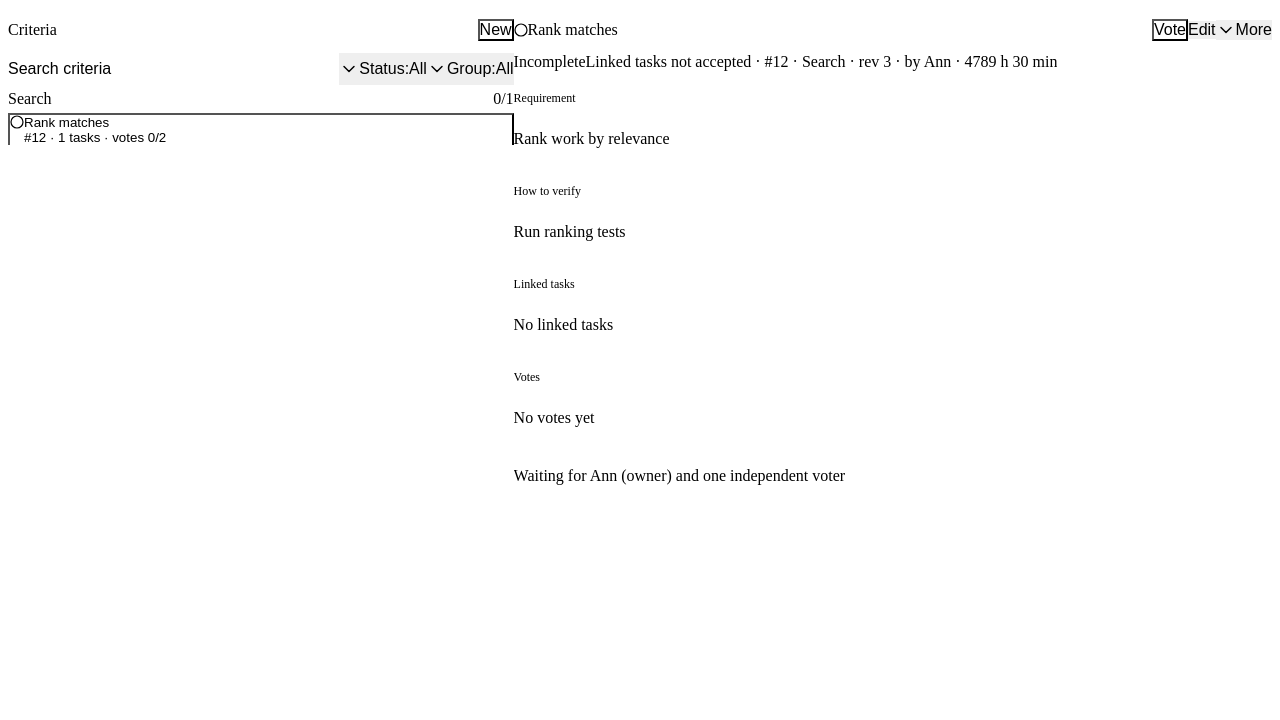
keeps forms out of the detail until requested and hides empty discussions
Expected: the heading "Rank matches" is shown, [528,21,618,38]
Expected: the heading "Your vote" is not shown
Click the button "Vote" at (1170, 30), box [1152,19,1188,41]
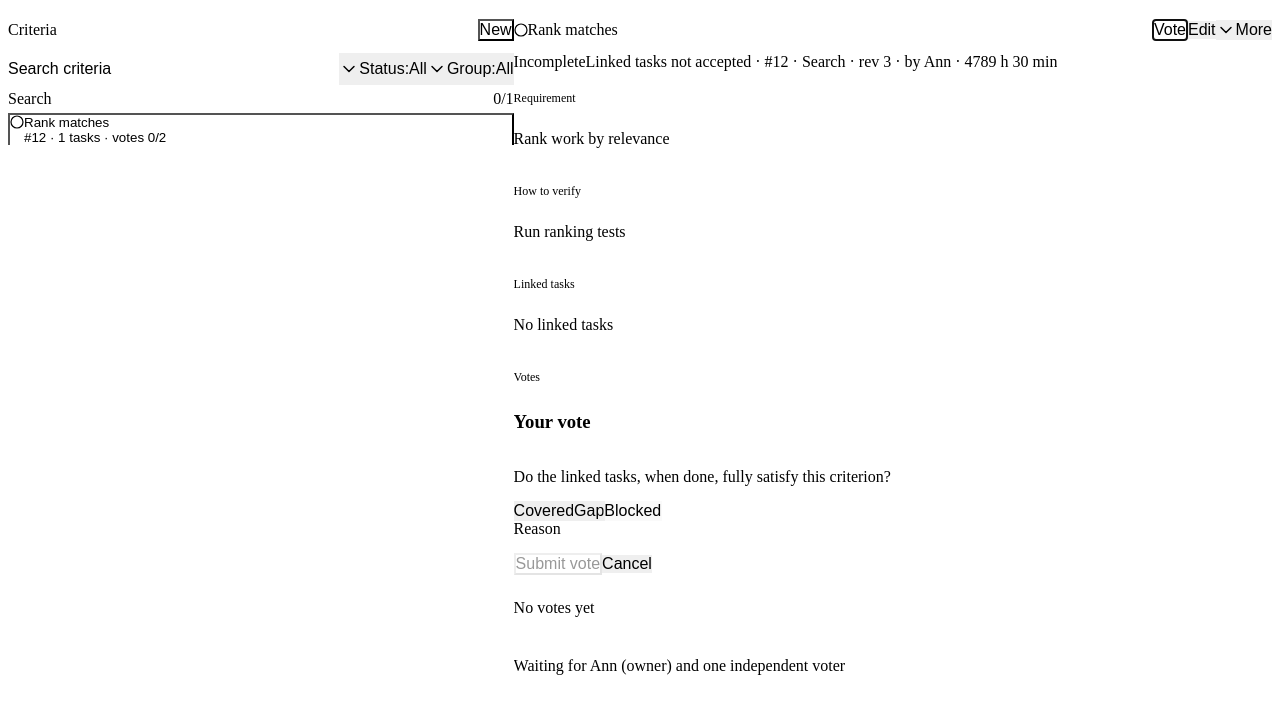
Now the heading "Your vote" is shown, box [514,411,591,433]
Click the button "Cancel" at (627, 564), box [602,555,652,573]
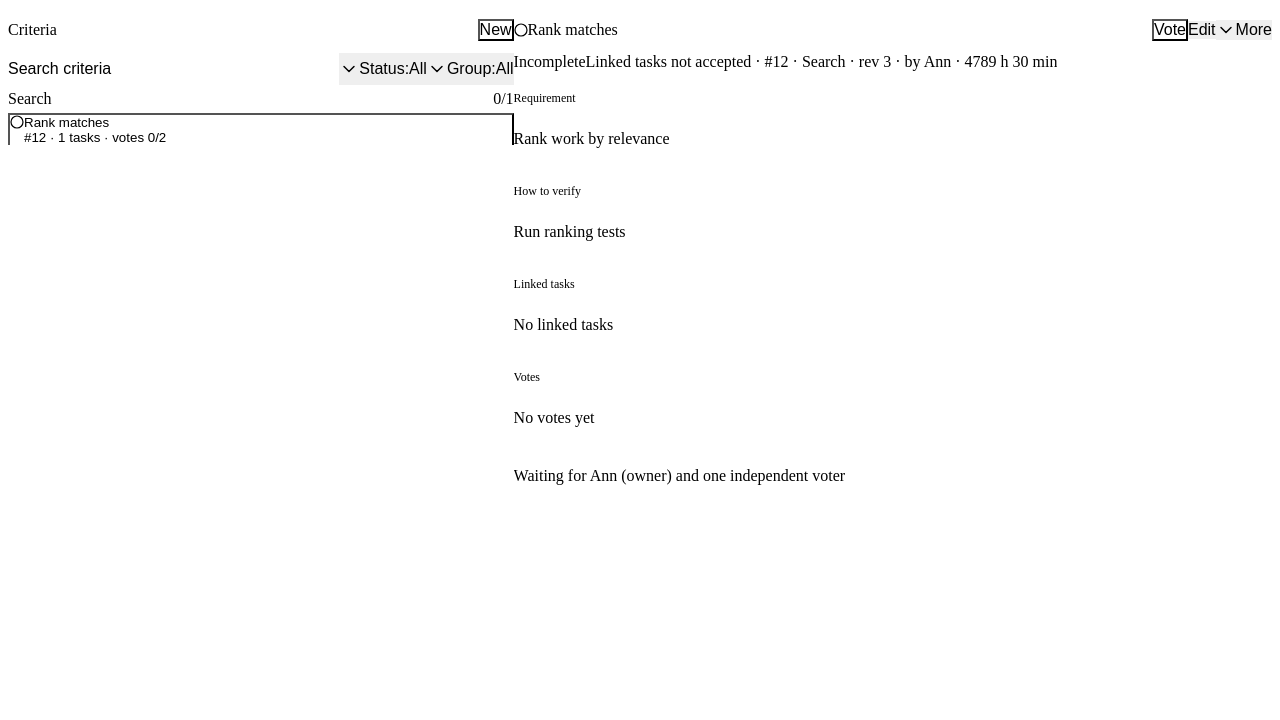
Now the heading "Your vote" is gone
